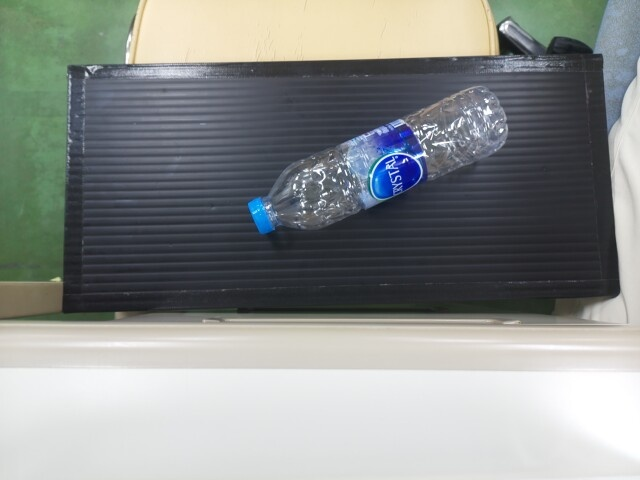plastic_bottle: (243, 93, 507, 232)
